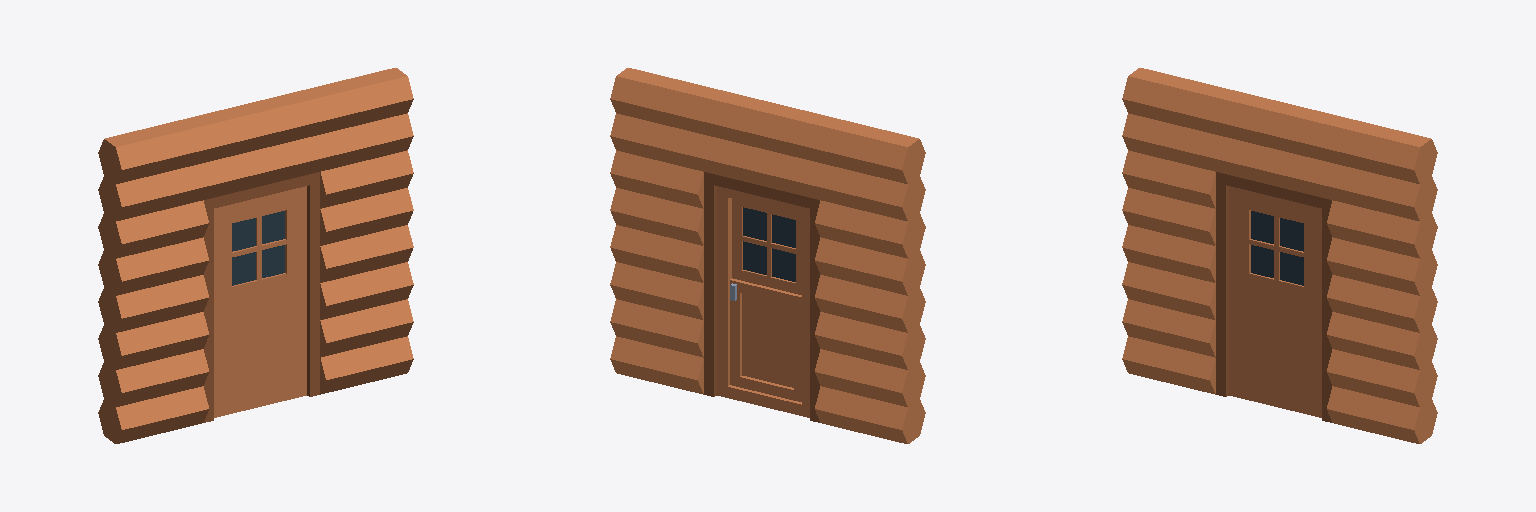
File: cabinDoor.obj
3 views of the same model, side by side, from view 1: azimuth 30°, elevation 25°; view 2: azimuth 150°, elevation 25°; view 3: azimuth 330°, elevation 25° (orthographic).
Visible parts, largest first — view 1: cabinDoor, door, frame; view 2: cabinDoor, door, frame; view 3: cabinDoor, door, frame.
Boxes of the visible parts, x1,y1,x2,y2 form: cabinDoor: [98, 68, 413, 443]; door: [214, 186, 306, 417]; frame: [204, 172, 319, 422]; cabinDoor: [610, 68, 925, 443]; door: [717, 186, 809, 417]; frame: [704, 172, 819, 422]; cabinDoor: [1122, 68, 1437, 443]; door: [1229, 186, 1321, 417]; frame: [1216, 172, 1331, 422].
Size of the model in its own units: 1 by 0.9727 by 0.1404.